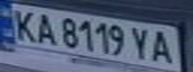1: (90, 20, 112, 54), (75, 18, 96, 52)
8: (57, 15, 81, 48)
9: (106, 21, 130, 57)
A: (148, 27, 178, 65), (30, 10, 60, 46)
K: (6, 7, 42, 43)
Y: (127, 25, 154, 61)
